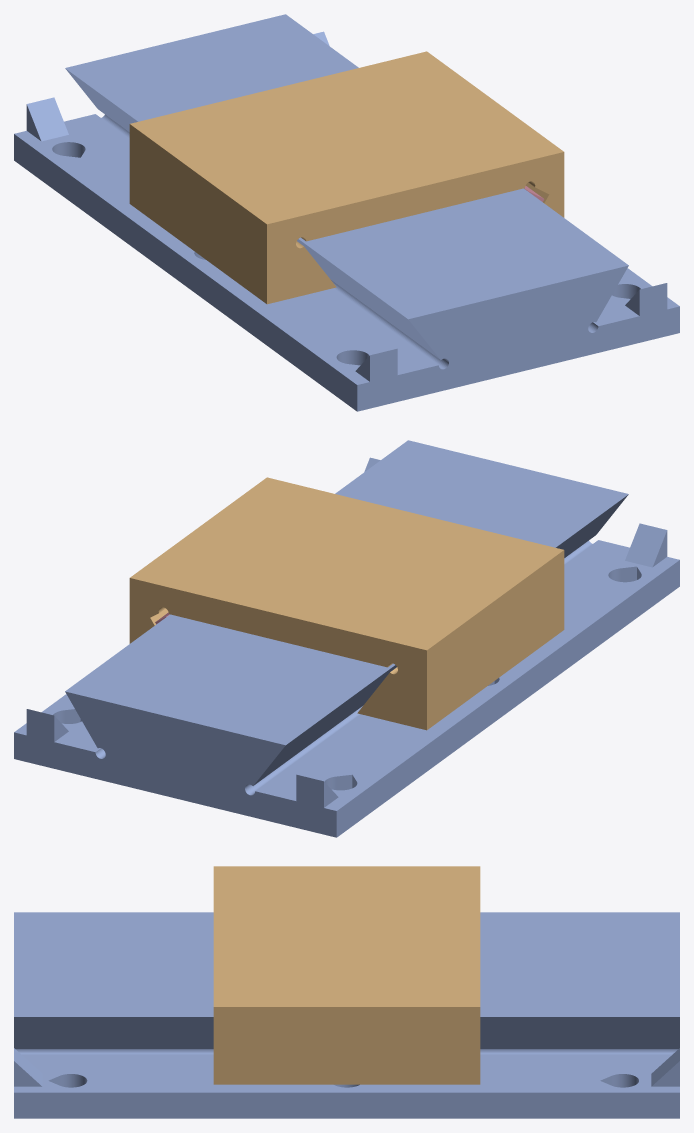
Rendered from linear_way_demo.glb.
The picture shows the model from 3 angles, top to bottom: view 1: azimuth 30°, elevation 25°; view 2: azimuth 150°, elevation 25°; view 3: azimuth 270°, elevation 25°; orthographic projection. The views are drawn at different scales.
Parts seen in each view (by area): view 1: way_rail, way_carriage; view 2: way_rail, way_carriage; view 3: way_rail, way_carriage.
Part boxes in pixels (x1,y1,x2,y2): way_rail: (14,14,679,411); way_carriage: (129,51,564,304); way_rail: (14,440,679,837); way_carriage: (129,477,564,730); way_rail: (14,912,679,1118); way_carriage: (213,866,480,1084).
Bounding box in the file's own units: 38 × 12.25 × 70.
